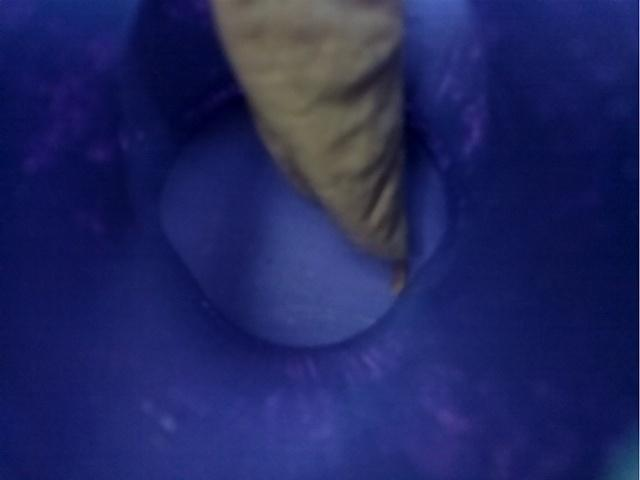feuille: (202, 1, 429, 294)
